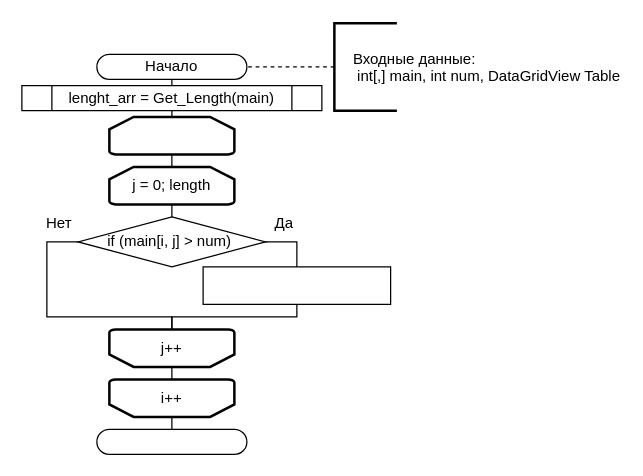
Image size: 643x476. Some labels were removed from this diagram. Each missing label, with the centre of its shape:
"i = 0; length" belongs at pixel 171 135.
"Table.Rows[i + 1].Cells[j + 1].Selected = true" belongs at pixel 296 285.
"Конец" belongs at pixel 171 441.
